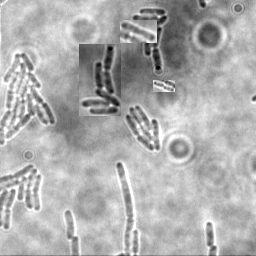Dividing: (114, 161, 133, 255), (204, 221, 215, 248), (153, 80, 175, 92)
Microcolony: (1, 51, 56, 147), (79, 44, 121, 116), (1, 162, 44, 231), (130, 8, 167, 72), (124, 106, 160, 153), (63, 208, 74, 240)
Rod: (120, 20, 157, 43)
